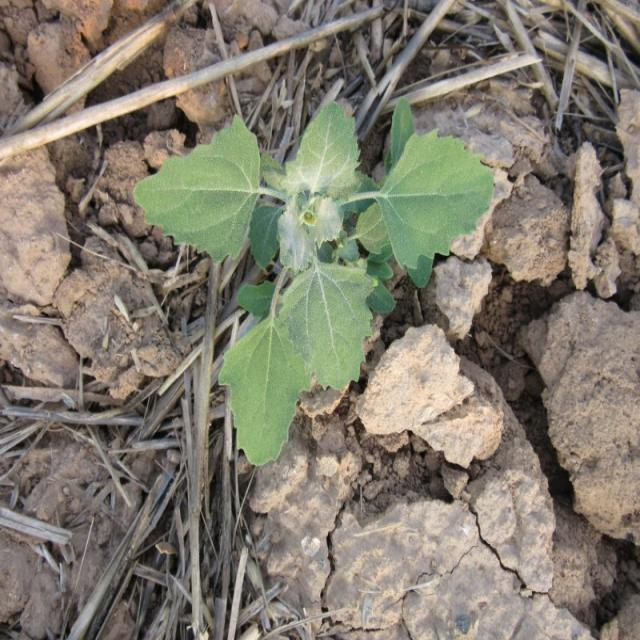ca: (138, 106, 388, 470)
